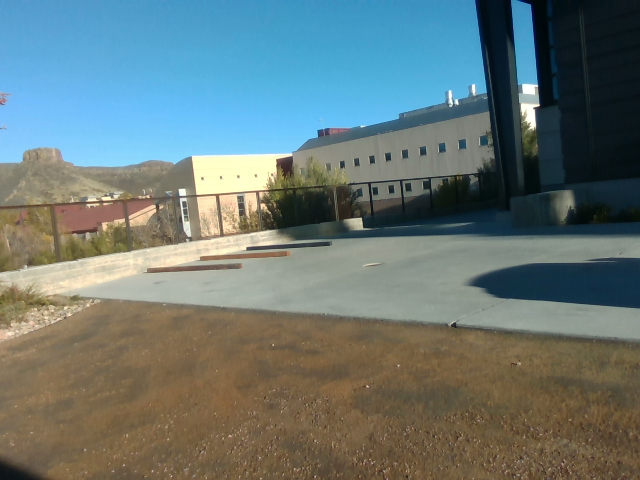Dunnage: (130, 232, 346, 283)
